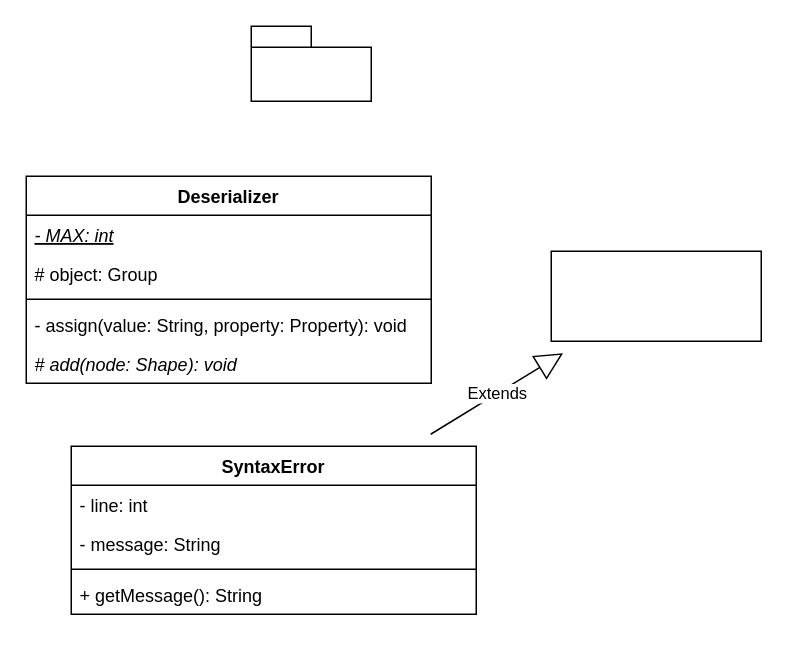
Image size: 788x645. Some labels were removed from this diagram. Each missing label, with the centre of its shape:
package slf: point (310, 63)
RuntimeException: point (655, 295)
